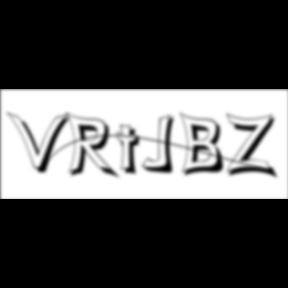B: (180, 111, 230, 179)
J: (142, 114, 182, 176)
R: (66, 112, 124, 182)
V: (7, 110, 74, 176)
Z: (226, 112, 282, 181)
t: (116, 124, 148, 179)
